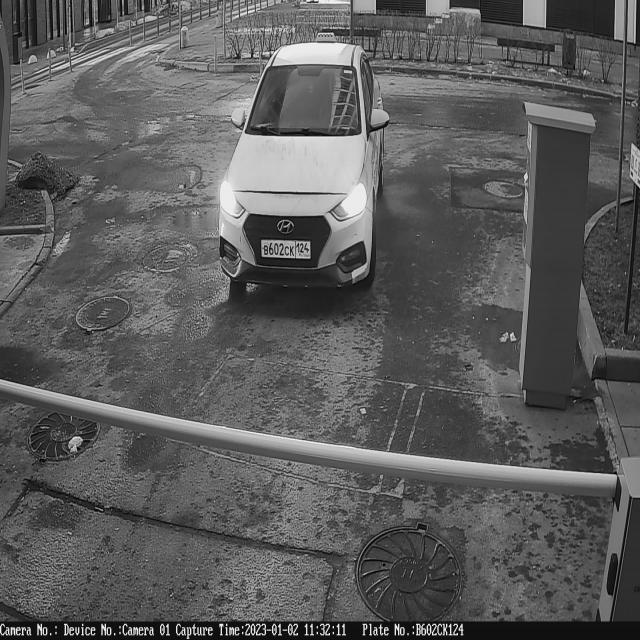car-plate-numbers: (260, 235, 314, 265)
